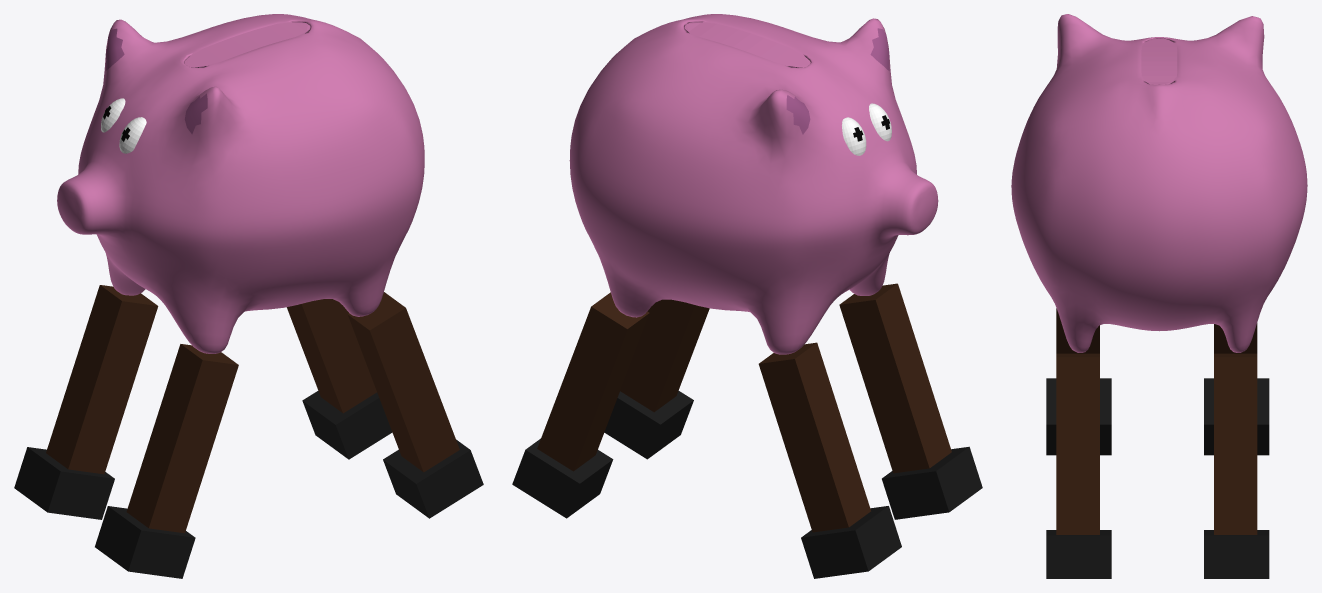
Rendered from pig-2-4-stilts.obj.
3 views of the same model, side by side, from view 1: azimuth 30°, elevation 25°; view 2: azimuth 150°, elevation 25°; view 3: azimuth 270°, elevation 25° (orthographic). The views are drawn at different scales.
Bounding box in the file's own units: 3.71 × 4.68 × 2.72.
